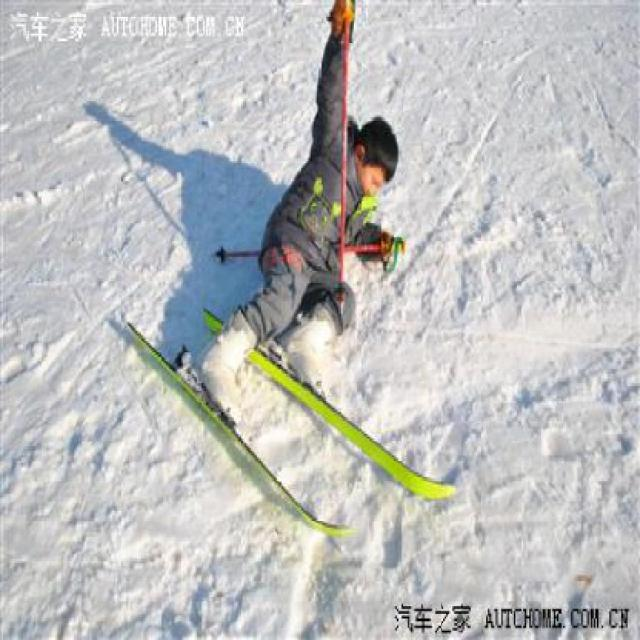fall: (187, 1, 422, 441)
